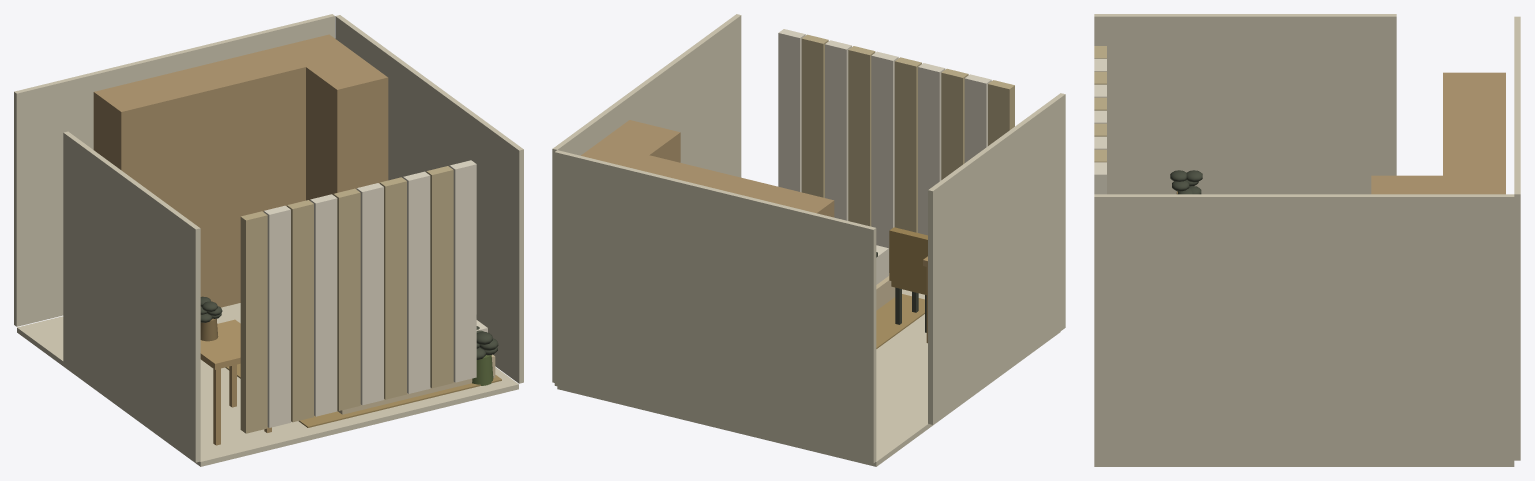
File: room-proxy.glb
3 views of the same model, side by side, from view 1: azimuth 30°, elevation 25°; view 2: azimuth 150°, elevation 25°; view 3: azimuth 270°, elevation 25° (orthographic). The views are drawn at different scales.
Parts seen in each view (by area): view 1: REF-L05-R01-wardrobe-part-1, proxy-left-wall-after-entry, proxy-right-wall, proxy-back-wall, REF-L05-R01-wardrobe-part-2, proxy-floor, REF-L05-R01-curtain-part-1, REF-L05-R01-curtain-part-4, REF-L05-R01-curtain-part-8, REF-L05-R01-curtain-part-10, REF-L05-R01-curtain-part-6, REF-L05-R01-curtain-part-2 (+8 smaller); view 2: proxy-back-wall, proxy-left-wall-after-entry, proxy-right-wall, proxy-floor, REF-L05-R01-curtain-part-6, REF-L05-R01-wardrobe-part-1, REF-L05-R01-curtain-part-7, REF-L05-R01-curtain-part-5, REF-L05-R01-curtain-part-8, REF-L05-R01-curtain-part-9, REF-L05-R01-curtain-part-10, REF-L05-R01-curtain-part-4 (+6 smaller); view 3: proxy-right-wall, proxy-left-wall-after-entry, REF-L05-R01-wardrobe-part-1, proxy-back-wall, proxy-floor, REF-L05-R01-wardrobe-part-2.
Boxes of the visible parts, x1,y1,x2,y2 form: REF-L05-R01-wardrobe-part-1: (93, 34, 356, 307); proxy-left-wall-after-entry: (63, 131, 200, 462); proxy-right-wall: (335, 15, 523, 383); proxy-back-wall: (14, 14, 334, 326); REF-L05-R01-wardrobe-part-2: (306, 54, 388, 200); proxy-floor: (17, 303, 518, 466); REF-L05-R01-curtain-part-1: (240, 211, 267, 433); REF-L05-R01-curtain-part-4: (310, 194, 337, 416); REF-L05-R01-curtain-part-8: (403, 171, 430, 393); REF-L05-R01-curtain-part-10: (449, 160, 476, 382); REF-L05-R01-curtain-part-6: (356, 183, 383, 405); REF-L05-R01-curtain-part-2: (263, 205, 290, 427); proxy-back-wall: (554, 150, 876, 463); proxy-left-wall-after-entry: (928, 93, 1065, 424); proxy-right-wall: (552, 14, 741, 382); proxy-floor: (557, 289, 1060, 466); REF-L05-R01-curtain-part-6: (871, 51, 898, 272); REF-L05-R01-wardrobe-part-1: (581, 143, 834, 217); REF-L05-R01-curtain-part-7: (848, 46, 875, 226); REF-L05-R01-curtain-part-5: (894, 57, 921, 232); REF-L05-R01-curtain-part-8: (825, 40, 851, 220); REF-L05-R01-curtain-part-9: (801, 34, 828, 197); REF-L05-R01-curtain-part-10: (778, 29, 805, 192); REF-L05-R01-curtain-part-4: (918, 63, 945, 235); proxy-right-wall: (1094, 194, 1514, 463); proxy-left-wall-after-entry: (1094, 14, 1396, 194); REF-L05-R01-wardrobe-part-1: (1443, 72, 1505, 194); proxy-back-wall: (1514, 16, 1520, 460); proxy-floor: (1094, 463, 1514, 466); REF-L05-R01-wardrobe-part-2: (1371, 175, 1442, 194).
Bounding box in the file's own units: 1.03 × 0.7165 × 1.02.
